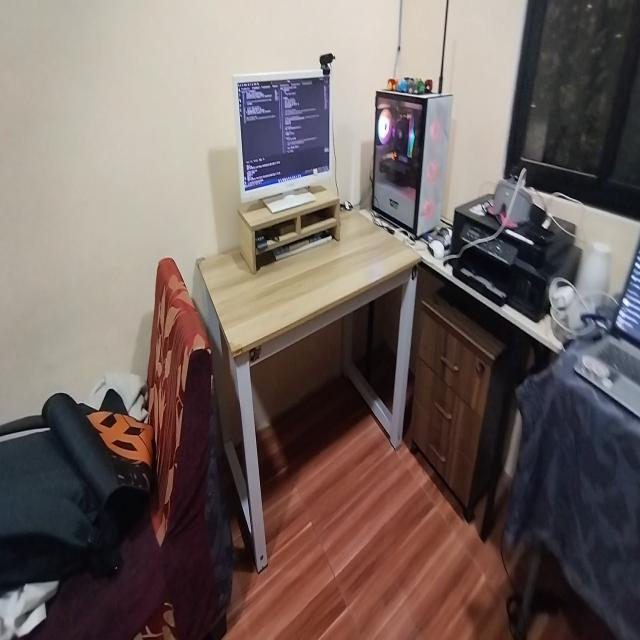table: (208, 204, 420, 524)
